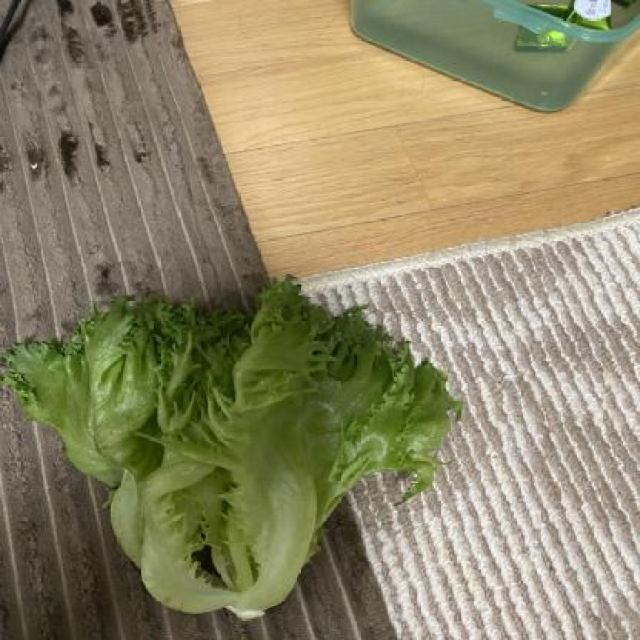lettuce: (0, 269, 466, 618)
